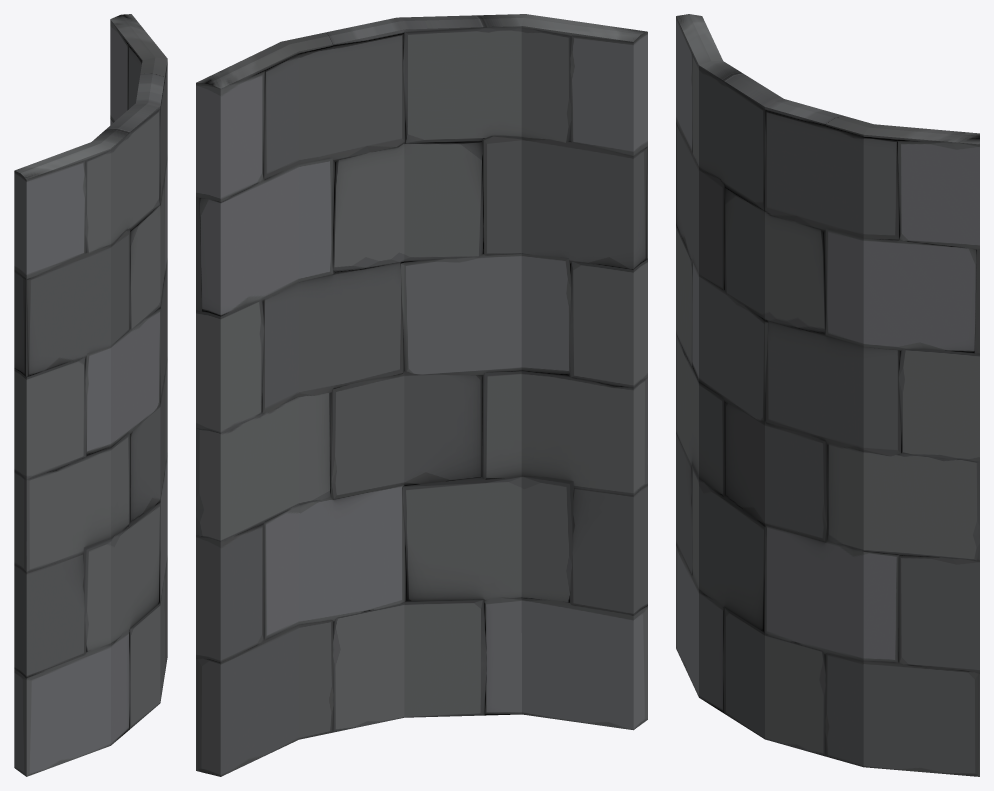
Rendered from crypt_wall_round.gltf.
3 renders of one model, left to right at view 1: azimuth 30°, elevation 25°; view 2: azimuth 150°, elevation 25°; view 3: azimuth 270°, elevation 25°, orthographic. The views are drawn at different scales.
Parts seen in each view (by area): view 1: crypt_wall_round; view 2: crypt_wall_round; view 3: crypt_wall_round.
Part boxes in pixels (box(x1,y1,x2,y2)): crypt_wall_round: box(14, 14, 167, 776); crypt_wall_round: box(196, 14, 647, 776); crypt_wall_round: box(676, 14, 979, 776).
Bounding box in the file's own units: 2.61 × 6.02 × 2.61.
Materials: 1 (1 with a texture image).
